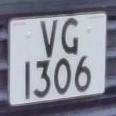0: (52, 55, 74, 100)
1: (20, 56, 37, 104)
3: (33, 56, 54, 103)
6: (73, 53, 94, 97)
G: (58, 14, 83, 59)
V: (35, 16, 61, 60)
